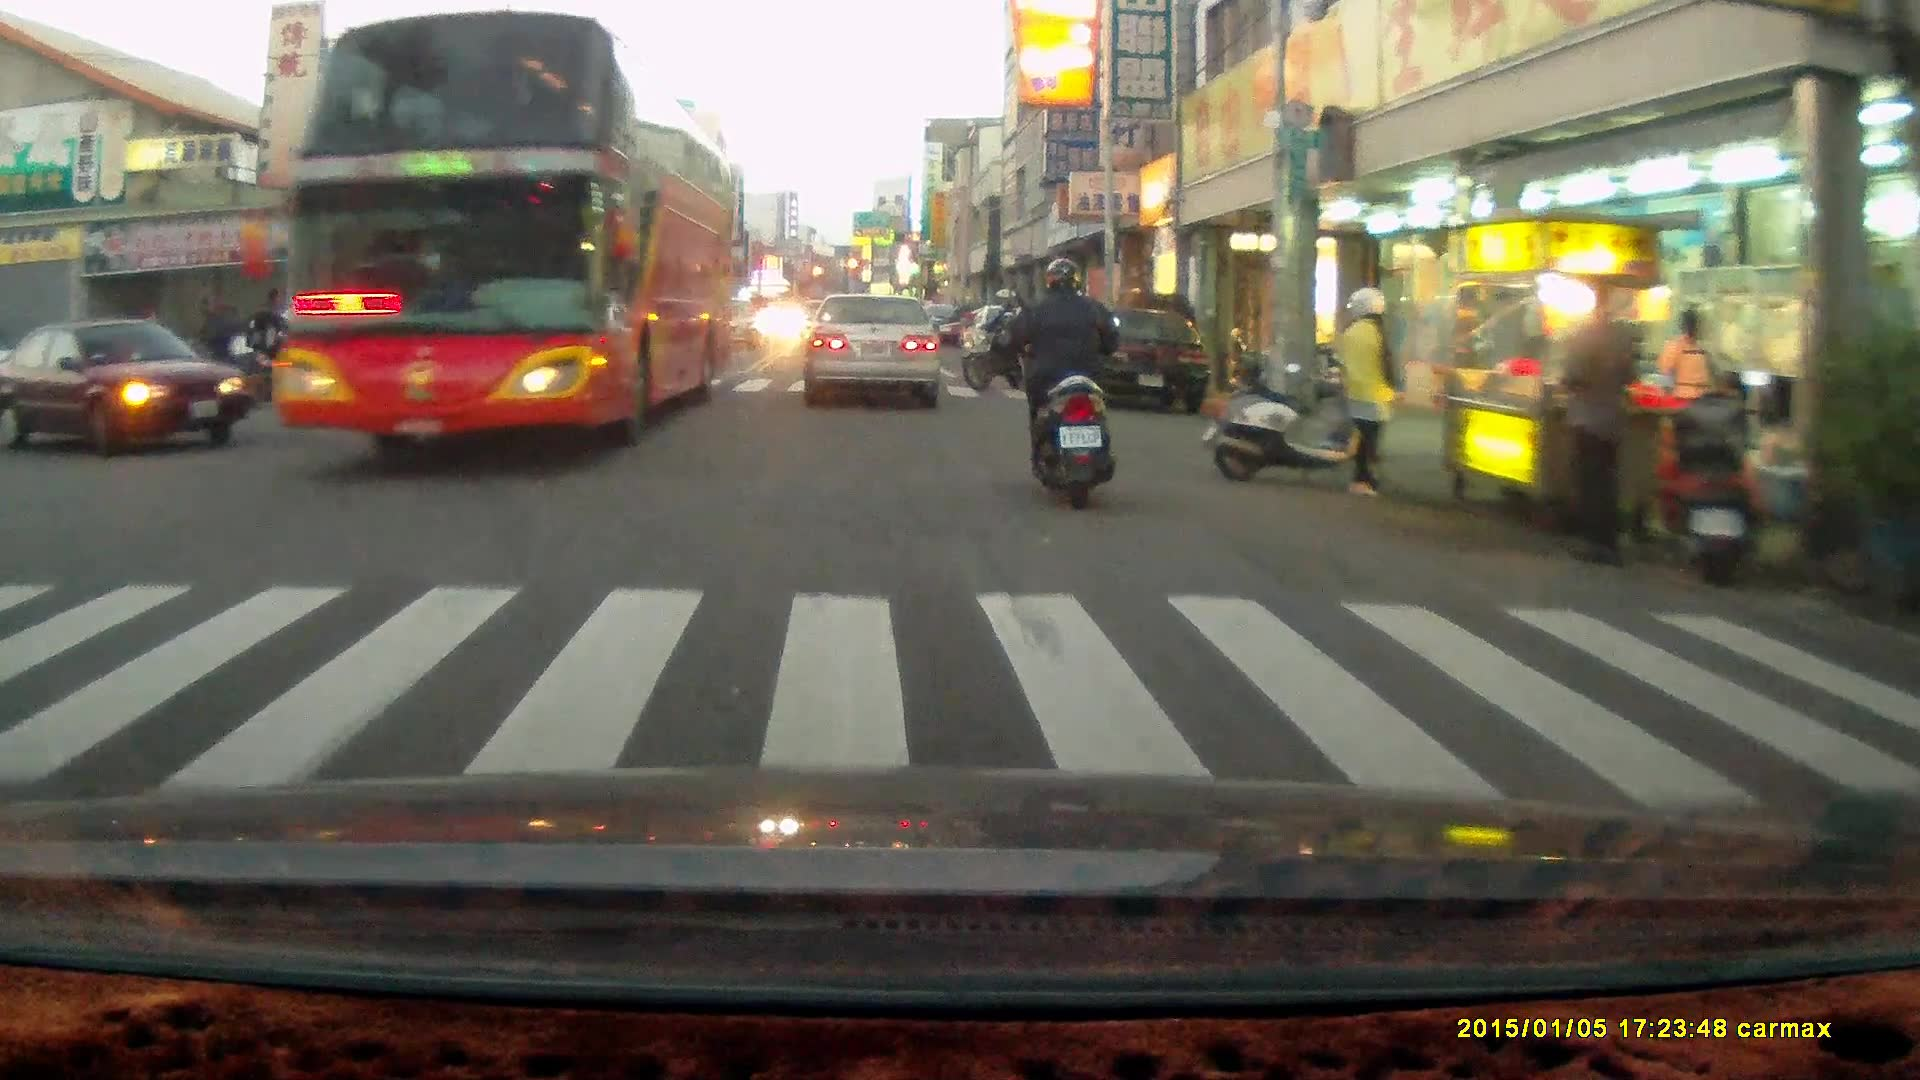pedestrian: (1556, 278, 1638, 567), (1335, 287, 1401, 500), (1658, 308, 1718, 479)
rider: (1002, 252, 1119, 505), (232, 281, 318, 391), (962, 284, 1031, 392), (184, 296, 258, 393)
vehicle: (236, 39, 734, 454), (3, 313, 246, 459), (1058, 303, 1212, 417), (802, 295, 945, 407)
